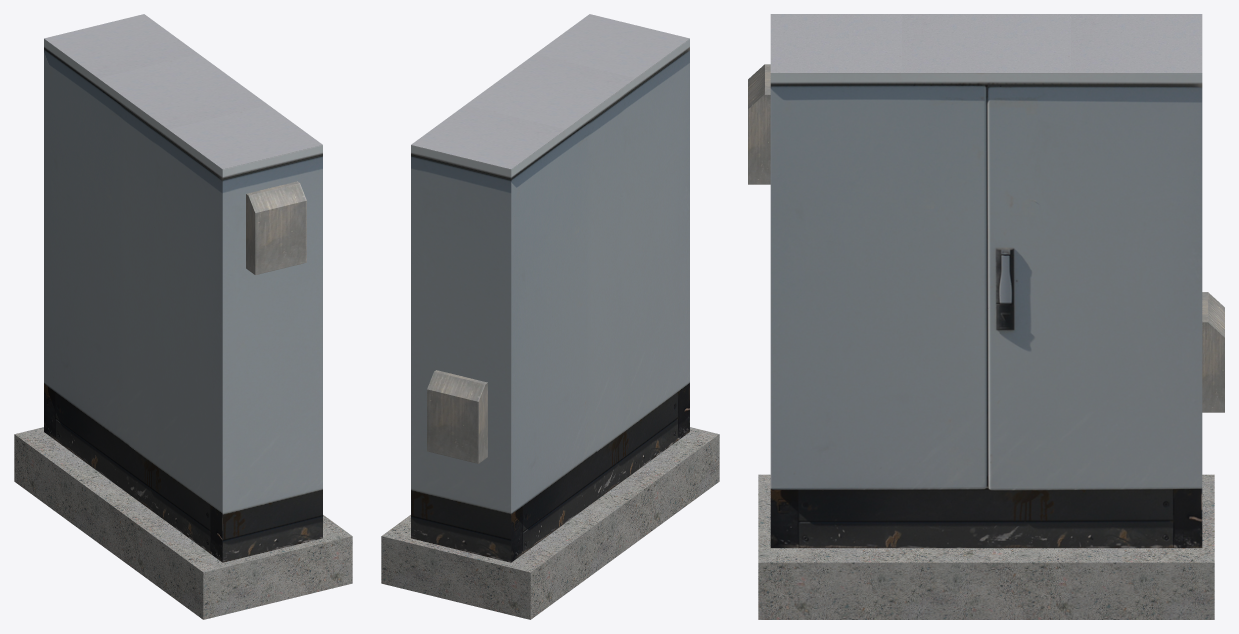
Rendered from PeiDianXiang.FBX.
3 renders of one model, left to right at view 1: azimuth 30°, elevation 25°; view 2: azimuth 150°, elevation 25°; view 3: azimuth 270°, elevation 25°, orthographic. The views are drawn at different scales.
Visible parts, largest first — view 1: Box071; view 2: Box071; view 3: Box071.
Part boxes in pixels (x1,y1,x2,y2): Box071: [14, 14, 352, 619]; Box071: [381, 14, 719, 619]; Box071: [748, 14, 1224, 619].
Bounding box in the file's own units: 63.56 × 180 × 146.
